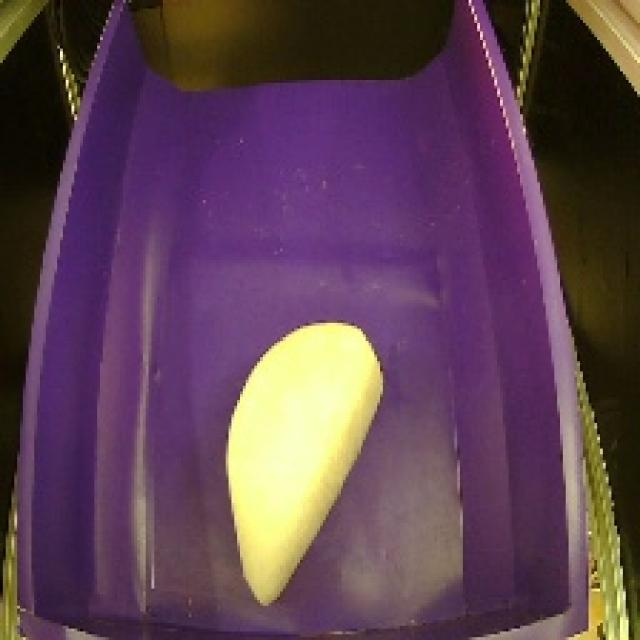white_radish: (210, 309, 396, 611)
